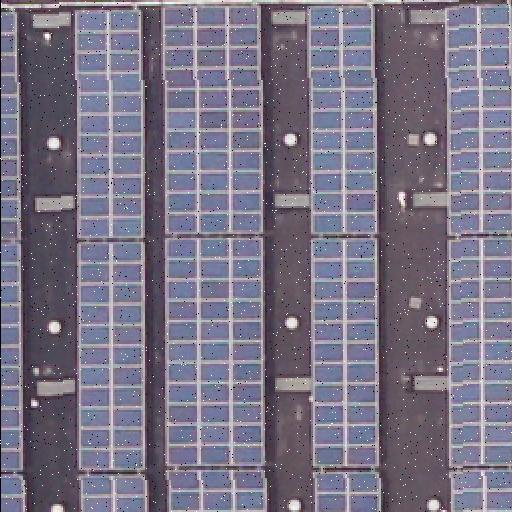solar-panel: (160, 0, 270, 512), (306, 0, 386, 512), (72, 0, 148, 512), (442, 2, 512, 512), (0, 5, 22, 512)
